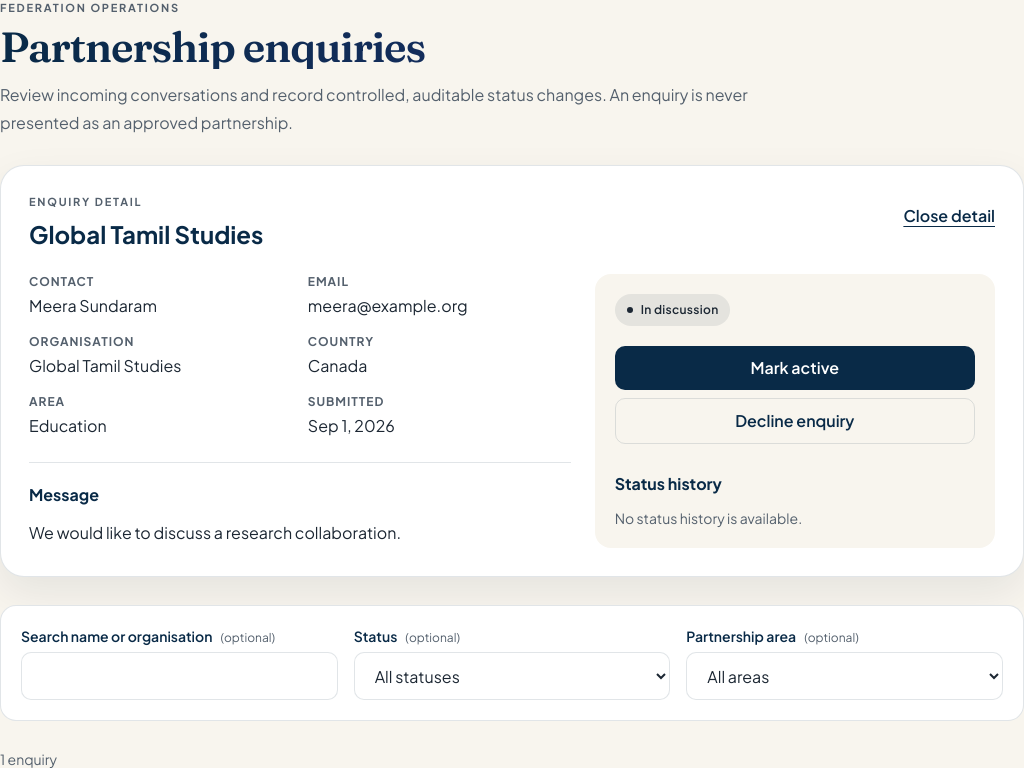
AdminPartnershipOperations › will not decline an enquiry without a reason, and uses its own wording
Click the button "Decline enquiry": (795, 421) [615,398,975,444]
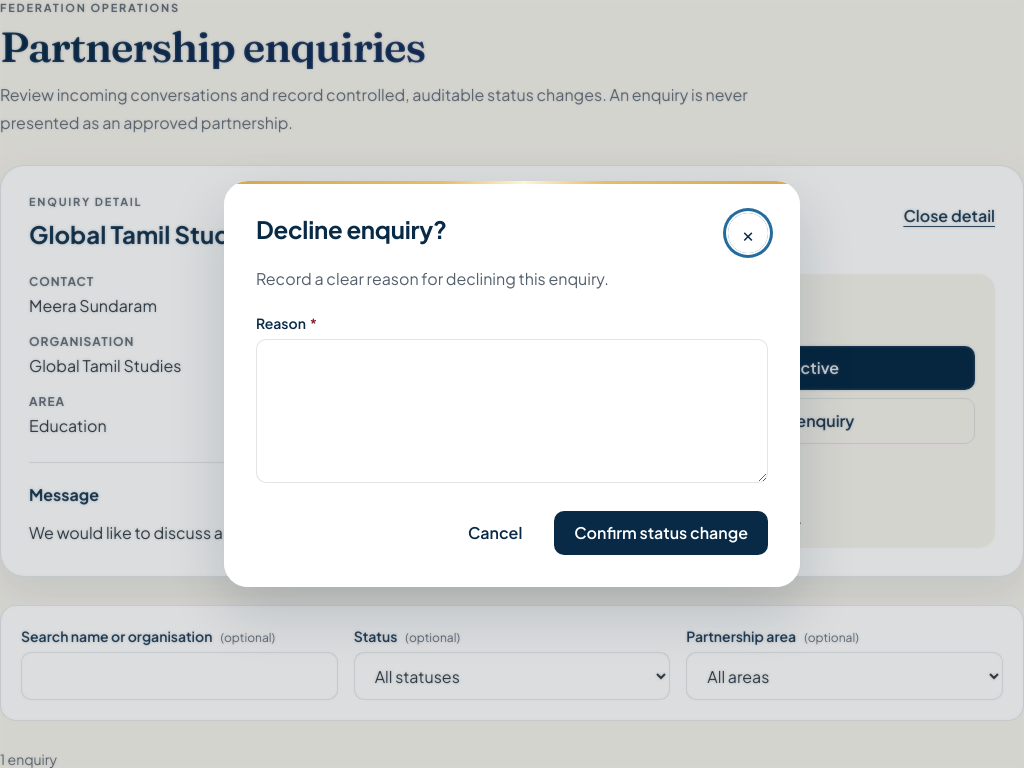
Click the button "Confirm status change": (661, 533) [554,511,768,555]
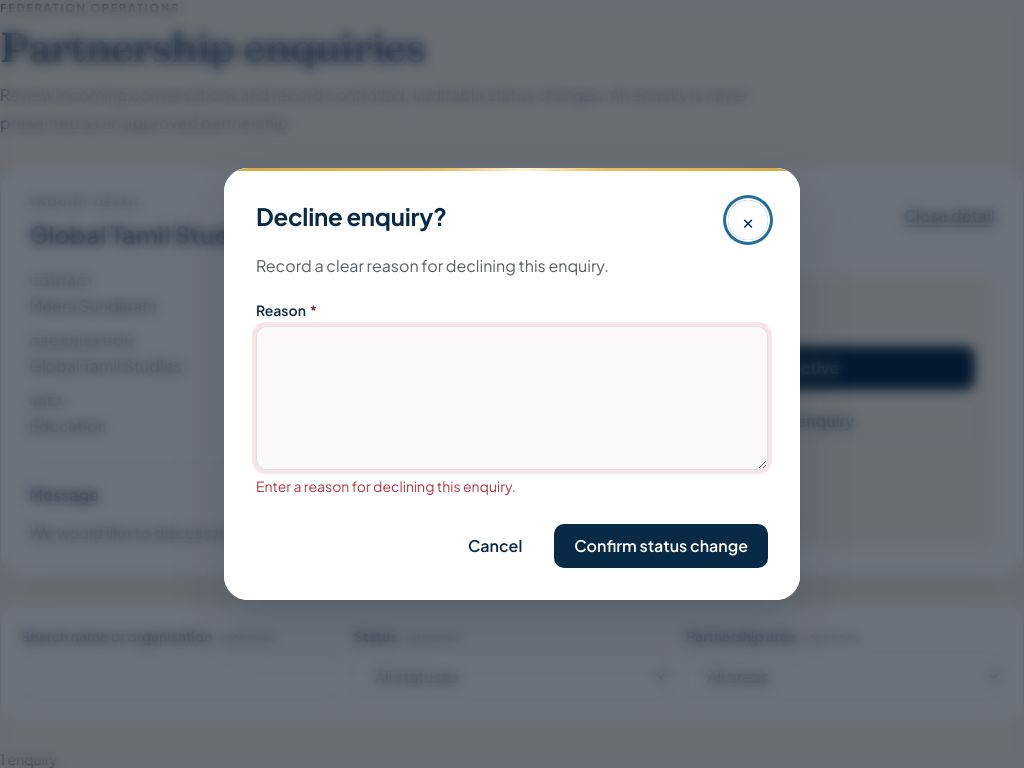
expect the text "Enter a reason for declining this enquiry." is shown: met, box [256,477,516,495]
